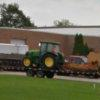Tractor: (13, 36, 67, 78)
